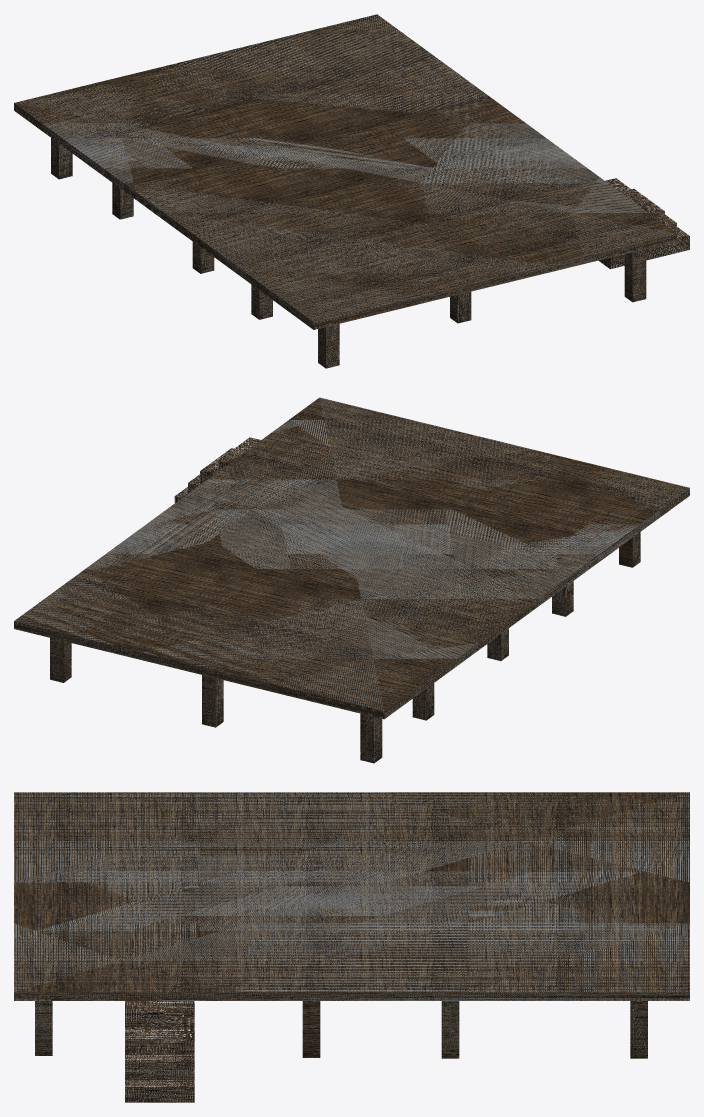
3 renders of one model, top to bottom at view 1: azimuth 30°, elevation 25°; view 2: azimuth 150°, elevation 25°; view 3: azimuth 270°, elevation 25°, orthographic. The views are drawn at different scales.
Parts seen in each view (by area): view 1: Model; view 2: Model; view 3: Model.
Boxes of the visible parts, bbox=[...] form: Model: bbox=[14, 14, 689, 368]; Model: bbox=[14, 397, 689, 763]; Model: bbox=[14, 792, 689, 1102].
Bounding box in the file's own units: 754 × 115 × 920.
